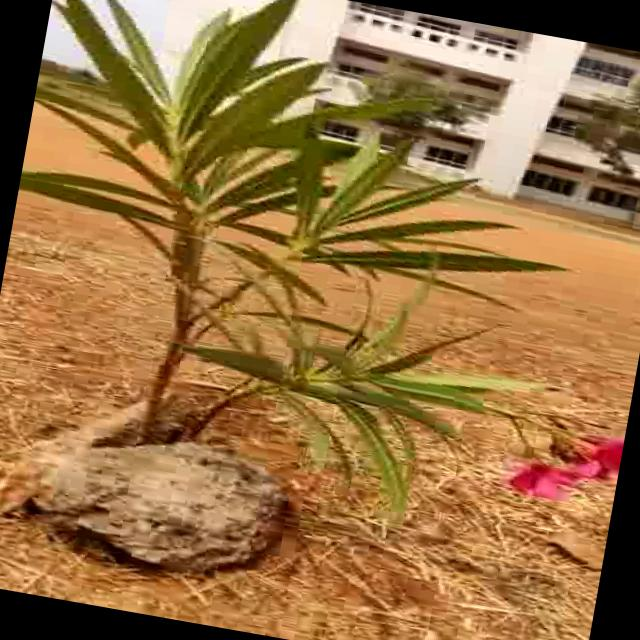OLEANDER: (0, 0, 640, 508)
